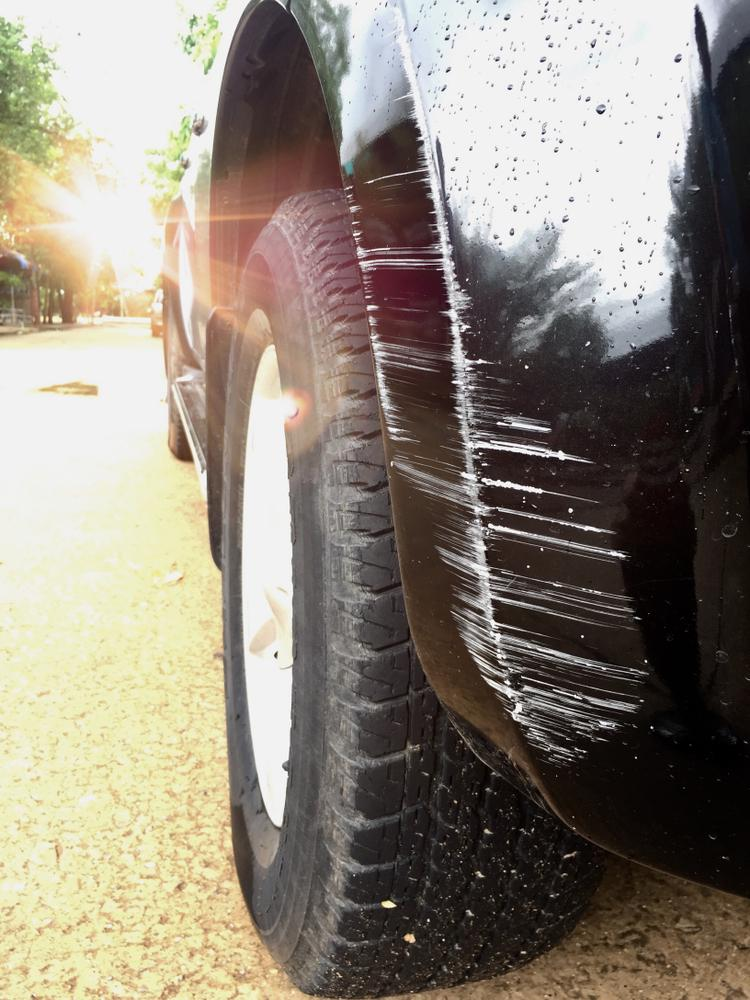scratch: (346, 0, 650, 770)
